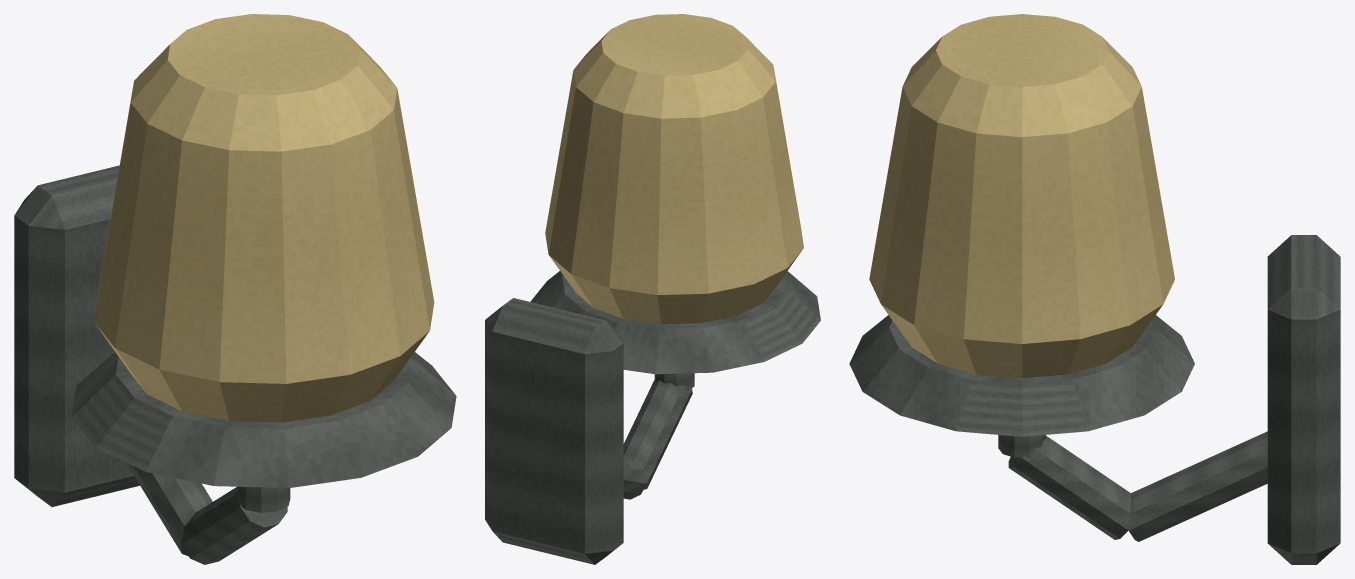
Rendered from level_wall_sconce.glb.
The picture shows the model from 3 angles, left to right: view 1: azimuth 30°, elevation 25°; view 2: azimuth 150°, elevation 25°; view 3: azimuth 270°, elevation 25°; orthographic projection. The views are drawn at different scales.
Visible parts, largest first — view 1: level_wall_sconce; view 2: level_wall_sconce; view 3: level_wall_sconce.
Part boxes in pixels (x1,y1,x2,y2): level_wall_sconce: (14,14,456,564); level_wall_sconce: (485,14,820,564); level_wall_sconce: (849,14,1340,564).
Size of the model in its own units: 0.26 by 0.4053 by 0.3695.
Materials: 2 (2 with a texture image).
